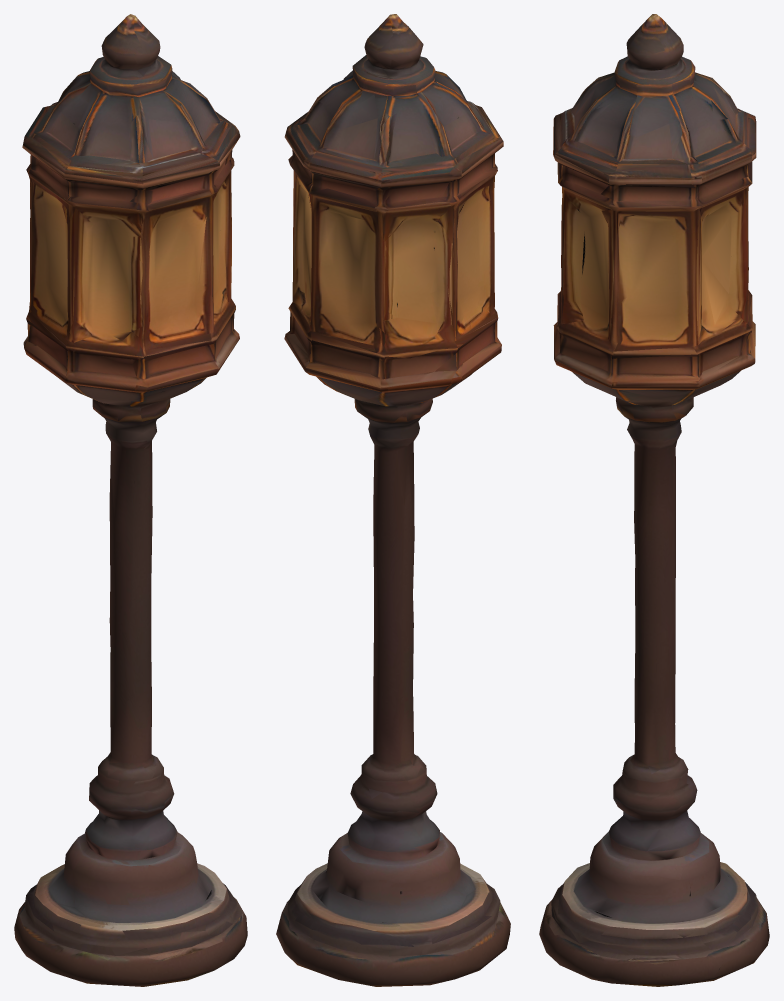
The model's file is Standing-Latern-Reduced-Tris.fbx.
3 renders of one model, left to right at view 1: azimuth 30°, elevation 25°; view 2: azimuth 150°, elevation 25°; view 3: azimuth 270°, elevation 25°, orthographic.
Visible parts, largest first — view 1: tripo_node_691a2795; view 2: tripo_node_691a2795; view 3: tripo_node_691a2795.
Part boxes in pixels (left/top/right/bottom): tripo_node_691a2795: left=14, top=14, right=247, bottom=986; tripo_node_691a2795: left=276, top=14, right=510, bottom=986; tripo_node_691a2795: left=539, top=14, right=769, bottom=986.
Size of the model in its own units: 22.47 by 99.98 by 22.56.
1 material, 1 textured.
